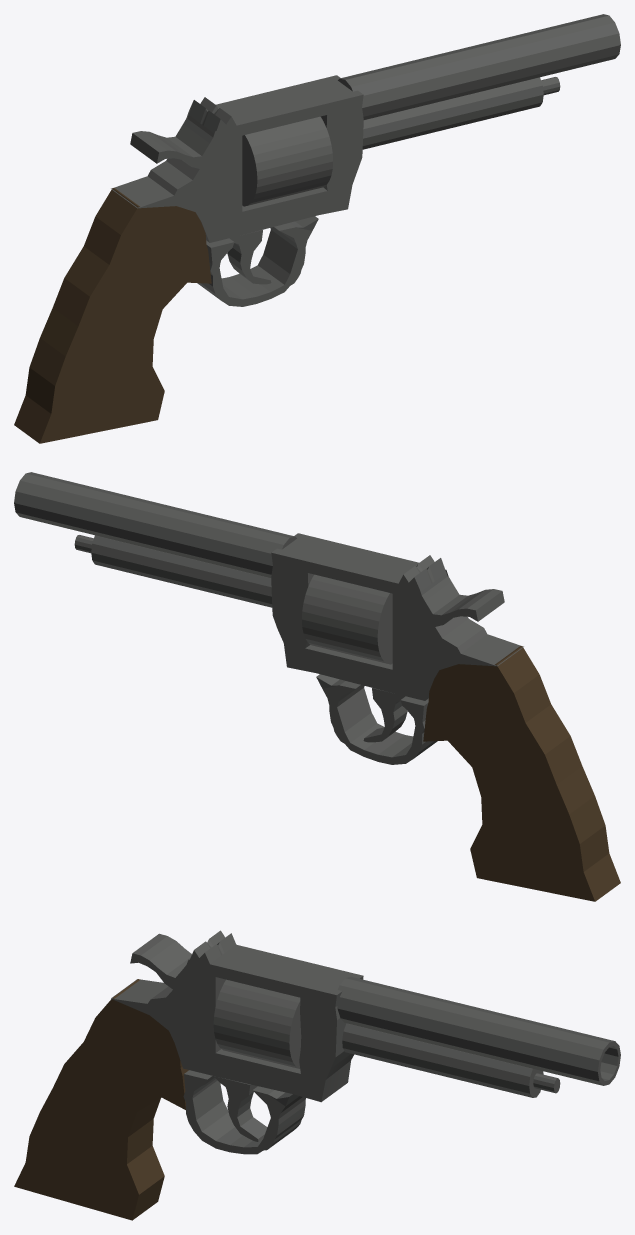
The model's file is Revolver.gltf.
3 views of the same model, one above another, from view 1: azimuth 30°, elevation 25°; view 2: azimuth 150°, elevation 25°; view 3: azimuth 330°, elevation 25° (orthographic).
Parts seen in each view (by area): view 1: Cube, Cube.004, Cylinder.001, Cylinder, Cylinder.002, Cube.002, Cube.003; view 2: Cube, Cube.004, Cylinder.001, Cylinder, Cylinder.002, Cube.002, Cube.003; view 3: Cube, Cube.004, Cylinder.001, Cylinder.002, Cylinder, Cube.002, Cube.003.
Part boxes in pixels (x1,y1,x2,y2): Cube: [14, 188, 211, 443]; Cube.004: [111, 75, 363, 242]; Cylinder.001: [338, 14, 620, 119]; Cylinder: [242, 116, 333, 206]; Cylinder.002: [362, 77, 560, 149]; Cube.002: [197, 216, 318, 306]; Cube.003: [227, 230, 271, 284]; Cube: [423, 646, 620, 901]; Cube.004: [271, 533, 523, 700]; Cylinder.001: [14, 472, 296, 577]; Cylinder: [301, 574, 392, 664]; Cylinder.002: [74, 535, 272, 607]; Cube.002: [316, 674, 437, 764]; Cube.003: [363, 688, 407, 742]; Cube: [14, 979, 188, 1220]; Cube.004: [111, 930, 363, 1102]; Cylinder.001: [337, 976, 620, 1085]; Cylinder.002: [342, 1023, 560, 1097]; Cylinder: [213, 979, 301, 1068]; Cube.002: [183, 1070, 305, 1154]; Cube.003: [214, 1076, 267, 1141].
Size of the model in its own units: 5.23 by 2.45 by 0.68.
